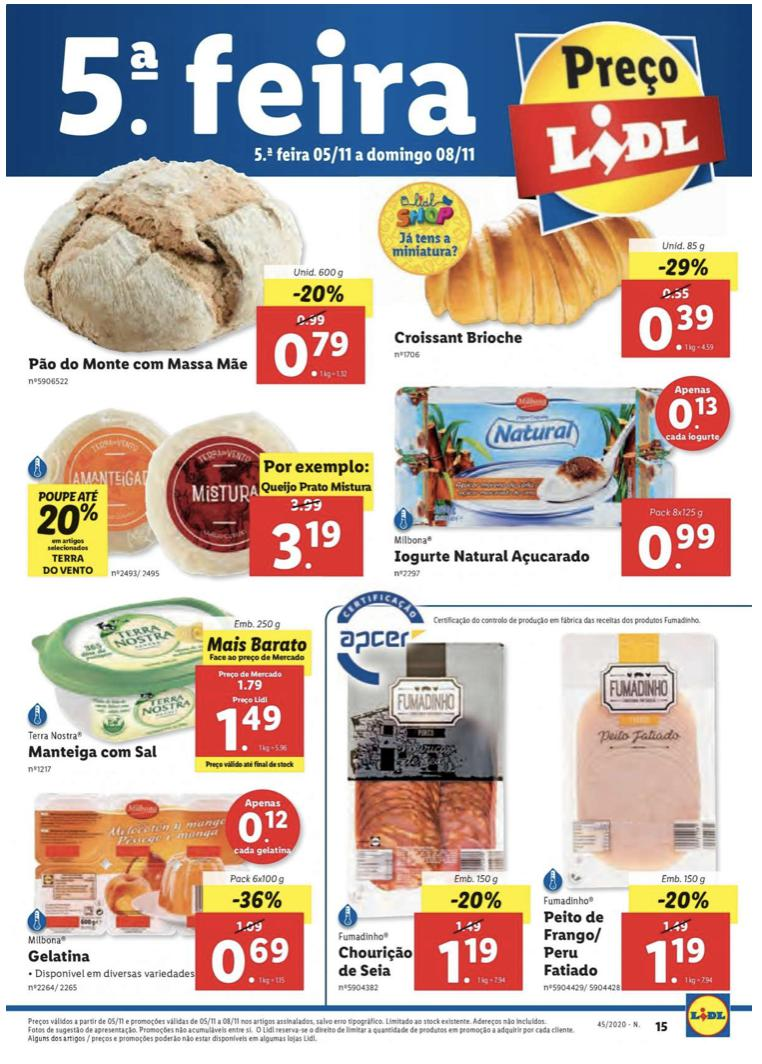name: (540, 907, 608, 978), (25, 353, 250, 373), (394, 546, 596, 567), (393, 325, 529, 349), (27, 741, 162, 762), (336, 945, 414, 978), (25, 946, 94, 969)
price: (202, 692, 293, 754), (203, 931, 293, 988), (269, 328, 354, 383), (264, 516, 344, 574), (637, 300, 721, 354), (637, 519, 718, 574), (435, 938, 503, 990), (644, 936, 706, 988)
product: (12, 166, 370, 396), (388, 378, 762, 594), (329, 621, 536, 991), (535, 628, 739, 996), (4, 387, 375, 587), (382, 183, 745, 374), (8, 775, 315, 998), (16, 591, 318, 784)
promotion: (37, 500, 102, 533), (289, 282, 348, 307), (228, 888, 286, 913), (448, 888, 506, 911), (658, 888, 712, 912), (656, 256, 712, 278)
